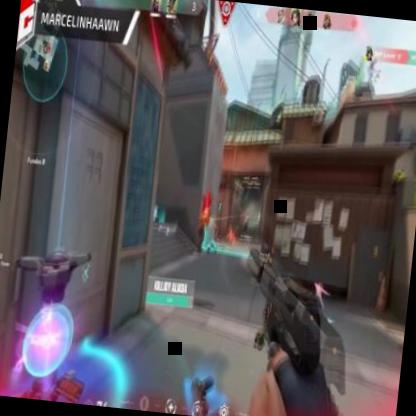enemy: (194, 208, 208, 250)
enemy_head: (202, 208, 208, 217)
